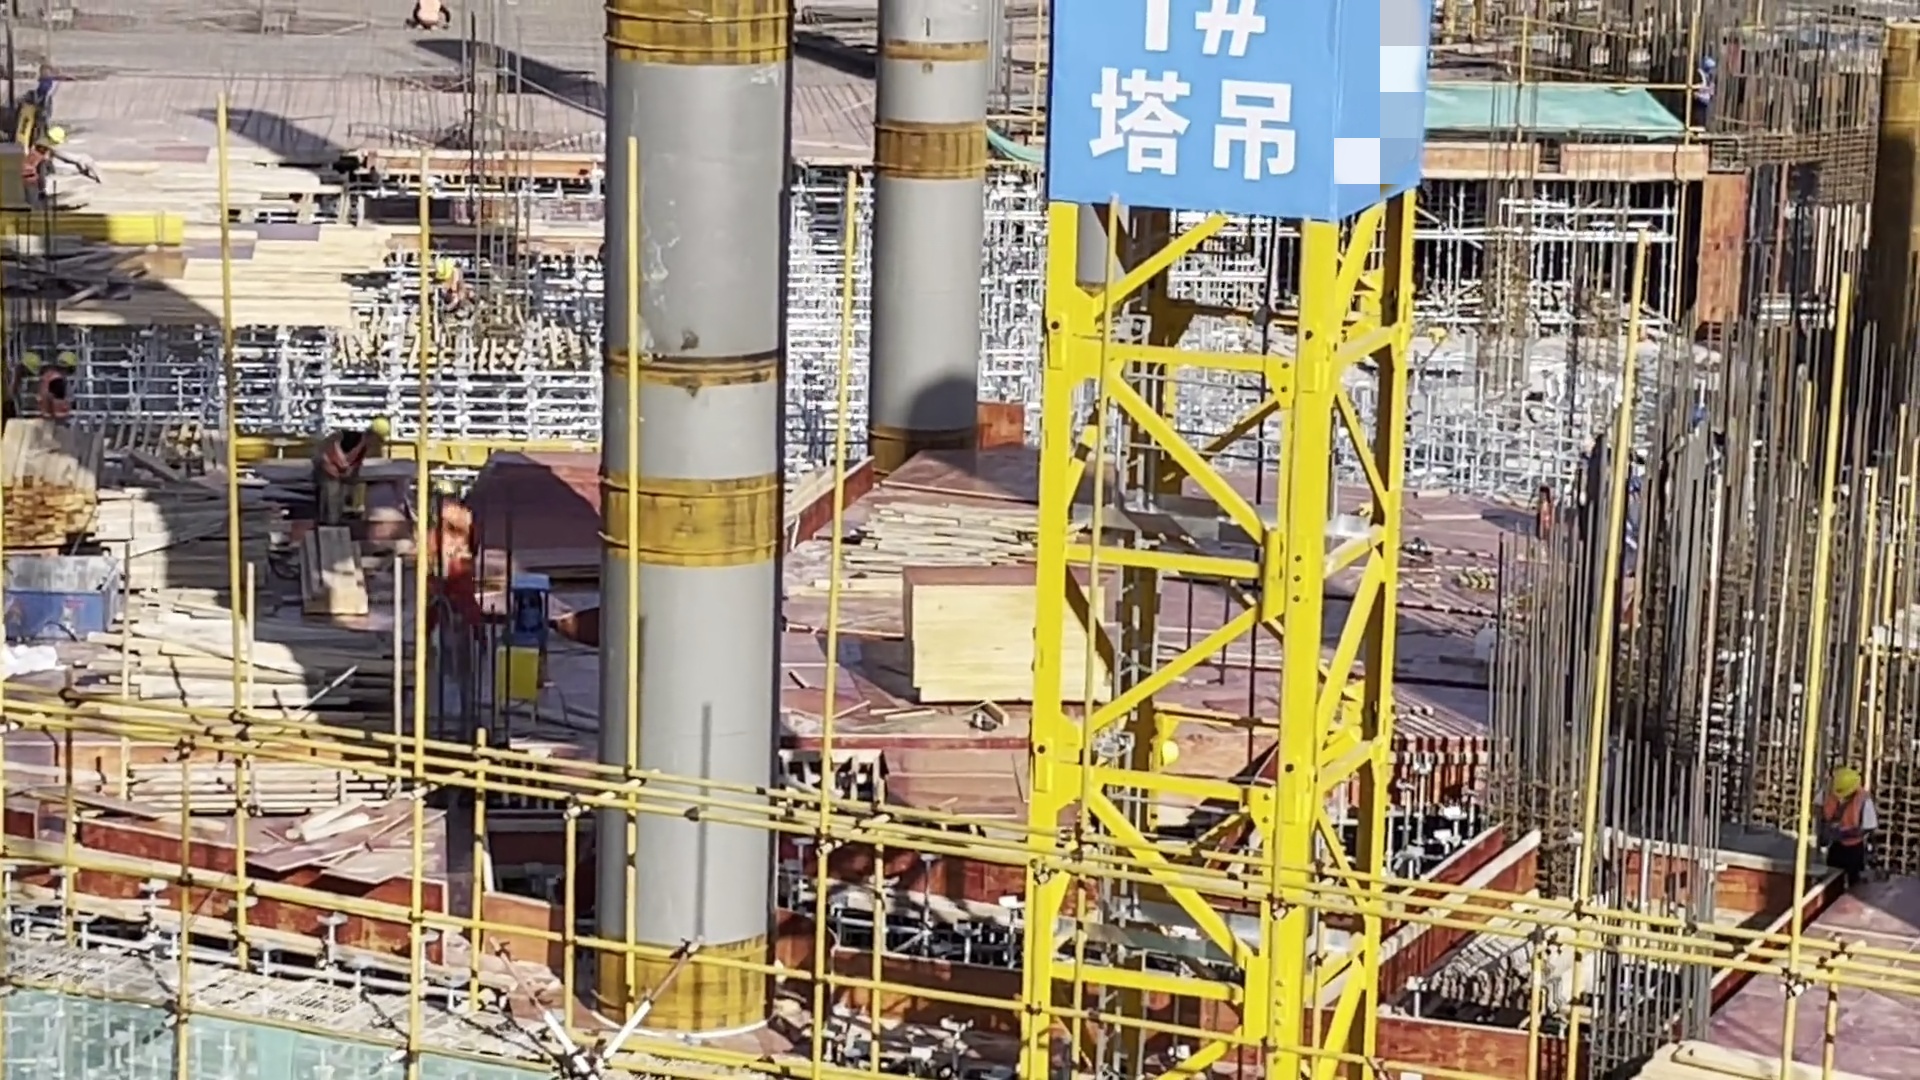helmet: (1829, 762, 1865, 801), (359, 414, 391, 446), (55, 349, 86, 378), (47, 122, 68, 147), (1697, 55, 1721, 76)
person: (306, 405, 388, 551), (429, 476, 493, 654), (1822, 763, 1887, 893), (41, 341, 93, 429), (29, 122, 75, 198), (1685, 55, 1721, 139), (1, 354, 37, 436), (405, 1, 456, 33)
vest: (429, 502, 478, 583), (1827, 792, 1875, 857), (318, 430, 363, 489), (46, 369, 72, 423), (1689, 69, 1718, 112)
